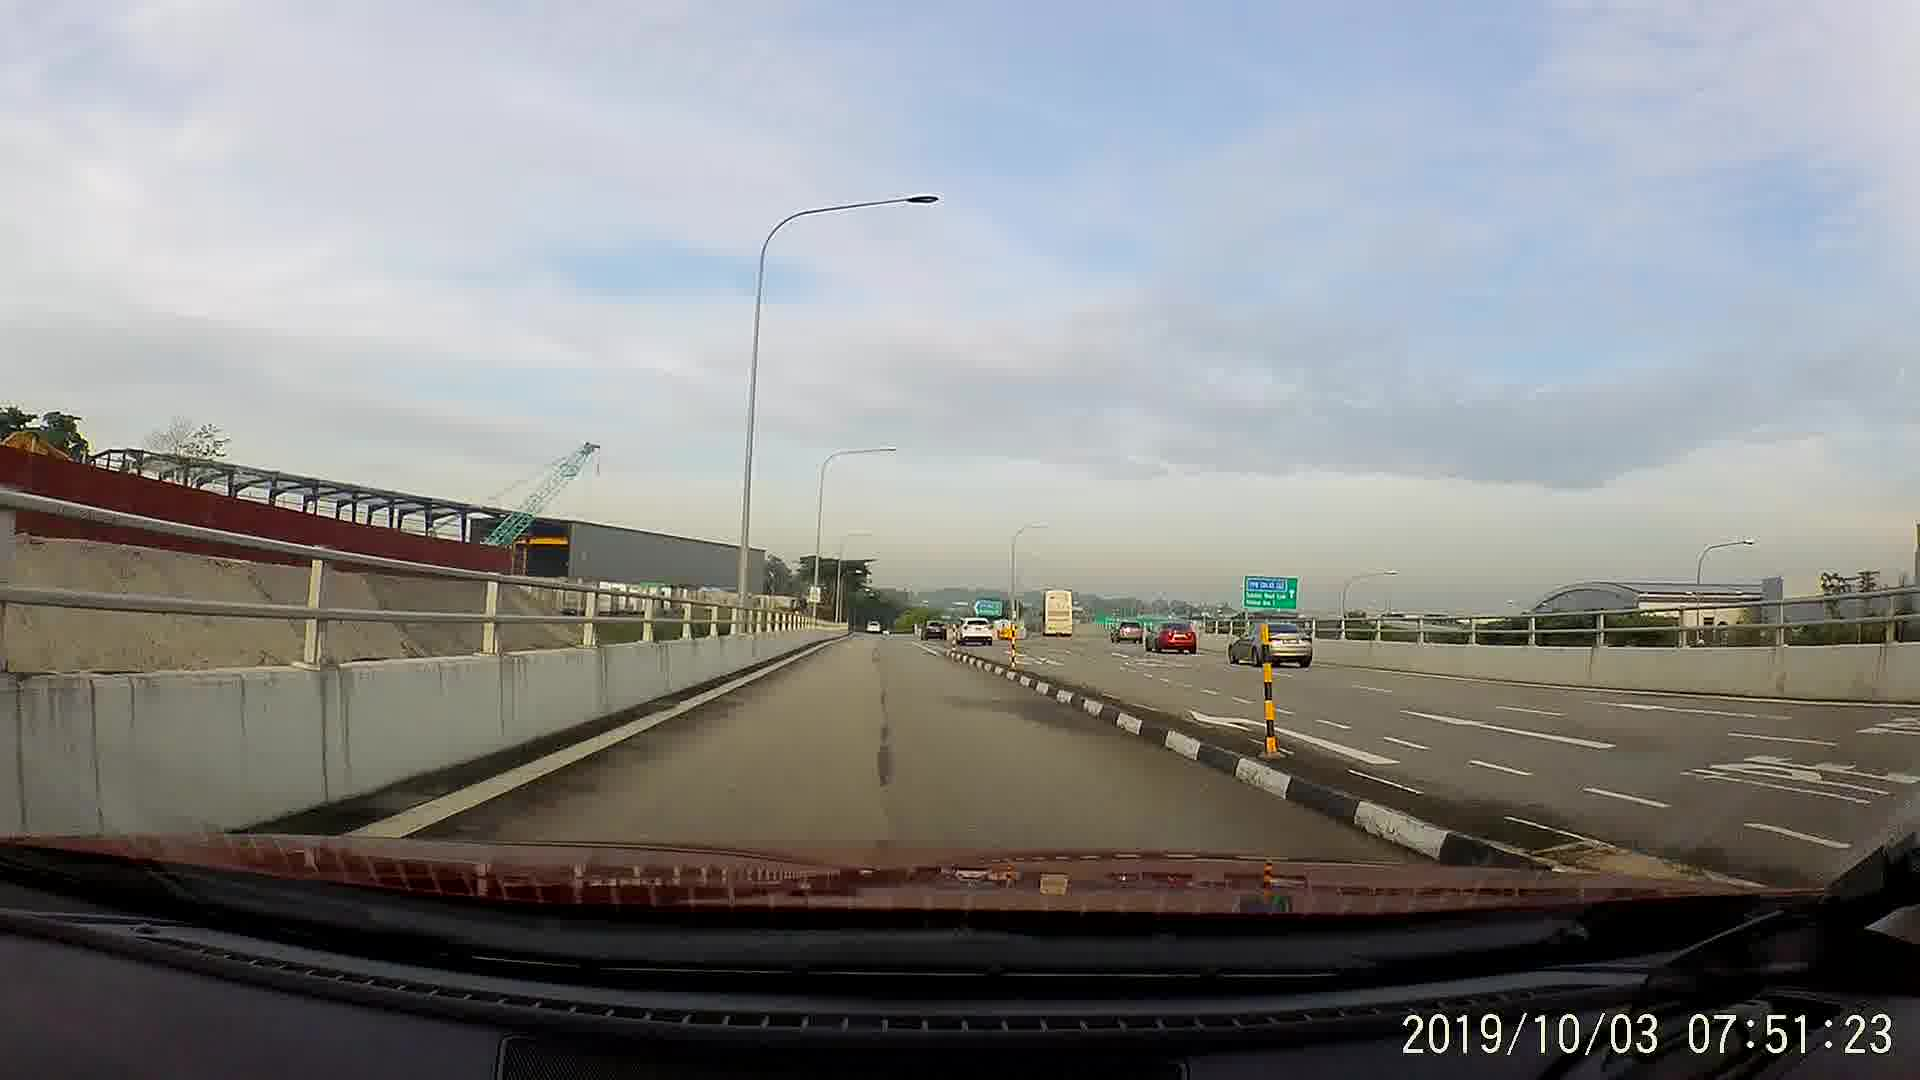bus: (1040, 587, 1077, 640)
car: (1224, 615, 1313, 669), (949, 611, 1000, 650), (1145, 616, 1199, 651), (916, 612, 951, 644), (1108, 620, 1146, 644), (866, 615, 884, 636)
